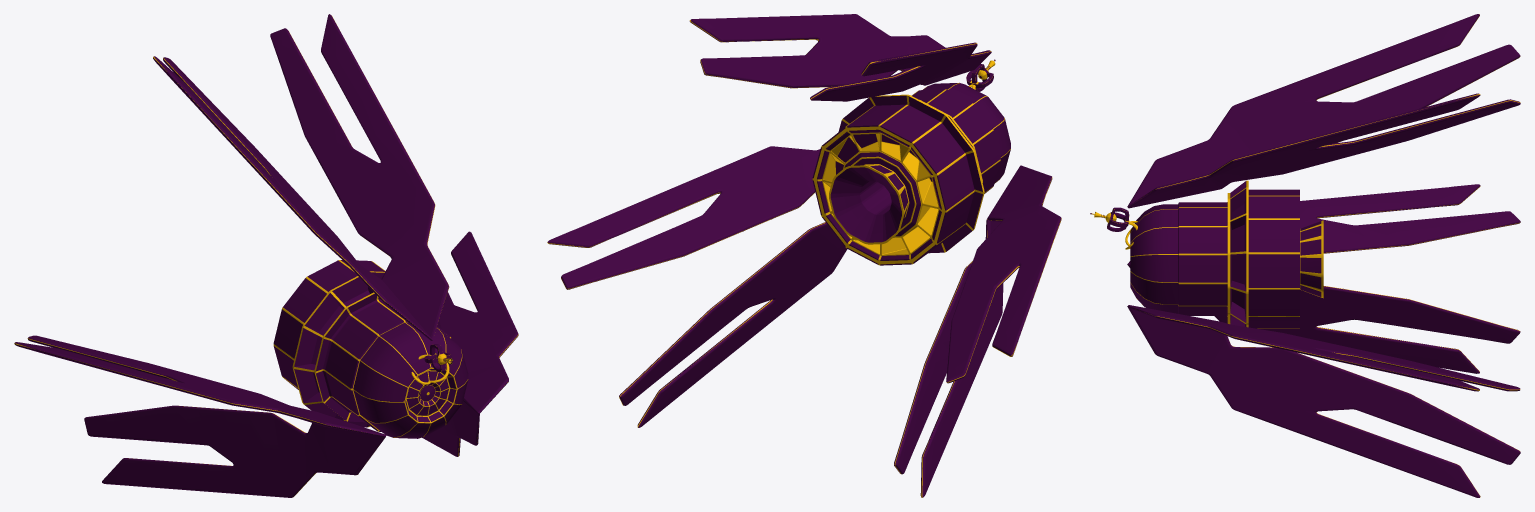
Rendered from DND_Kaldor.fbx.
The picture shows the model from 3 angles, left to right: view 1: azimuth 30°, elevation 25°; view 2: azimuth 150°, elevation 25°; view 3: azimuth 270°, elevation 25°; orthographic projection. The views are drawn at different scales.
Visible parts, largest first — view 1: M4_Wing_02, M4_Wing_04, M4_JetExhaust, M4_BaseCover, M4_Wing_03; view 2: M4_Wing_03, M4_JetExhaust, M4_Wing_04, M4_Wing_02, M4_BaseCover; view 3: M4_Wing_03, M4_Wing_02, M4_JetExhaust, M4_Wing_04, M4_BaseCover, M4_TetherBeam.
Boxes of the visible parts, x1,y1,x2,y2 form: M4_Wing_02: (153, 14, 449, 340); M4_Wing_04: (14, 335, 386, 497); M4_JetExhaust: (273, 260, 451, 431); M4_BaseCover: (353, 322, 468, 438); M4_Wing_03: (422, 231, 518, 456); M4_Wing_03: (547, 146, 847, 427); M4_JetExhaust: (812, 89, 1000, 265); M4_Wing_04: (894, 165, 1061, 497); M4_Wing_02: (689, 14, 991, 101); M4_BaseCover: (923, 82, 1010, 183); M4_Wing_03: (1127, 305, 1520, 497); M4_Wing_02: (1127, 14, 1520, 208); M4_JetExhaust: (1178, 180, 1323, 328); M4_Wing_04: (1127, 184, 1520, 373); M4_BaseCover: (1130, 204, 1178, 313); M4_TetherBeam: (1090, 207, 1129, 231).
Size of the model in its own units: 26.77 by 23.26 by 23.73.
